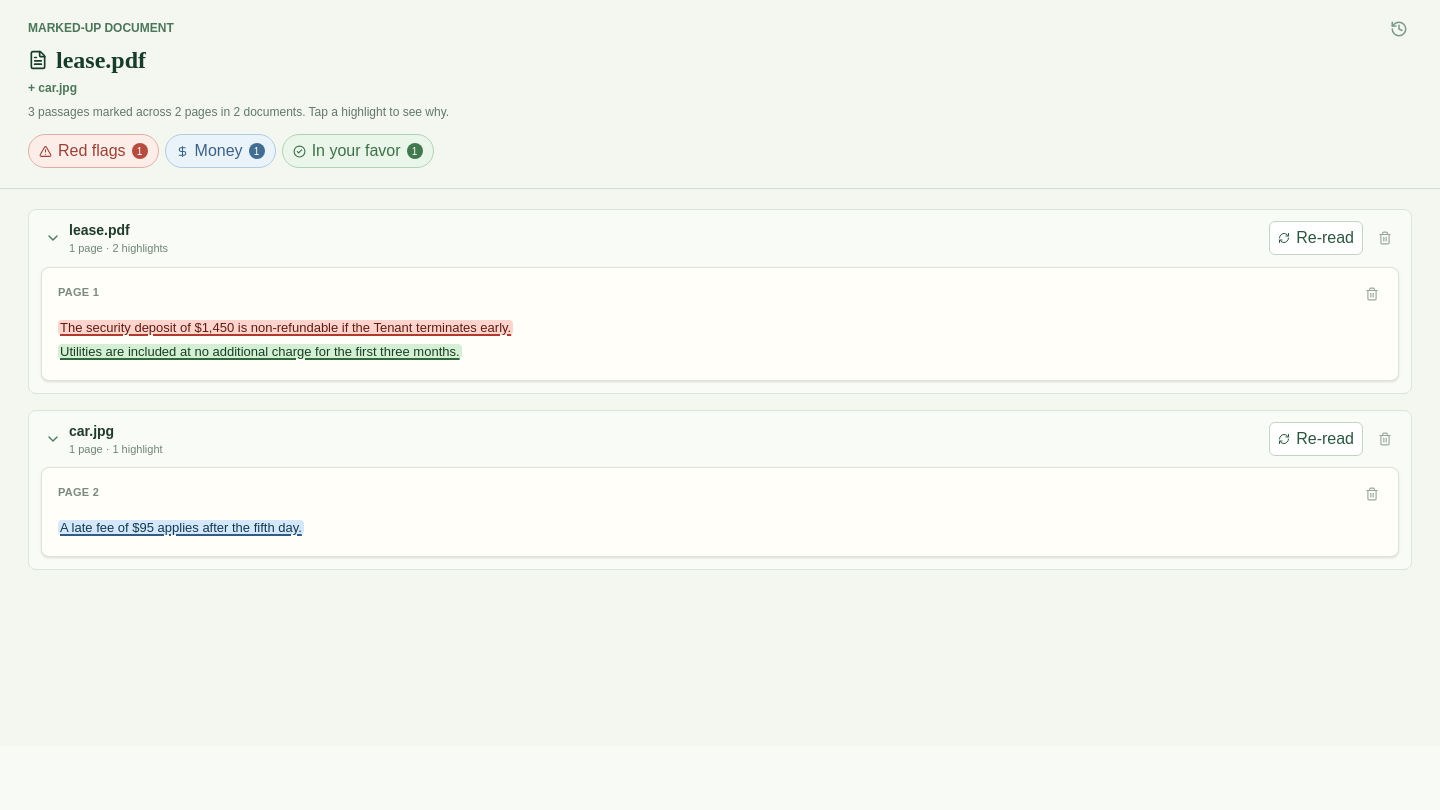
Test: documents in the panel › says so when the re-read could not run
This screenshot has width=1440, height=810.
Click the button with aria-label "Read lease.pdf again": (1316, 238) 1269,221 -> 1363,255
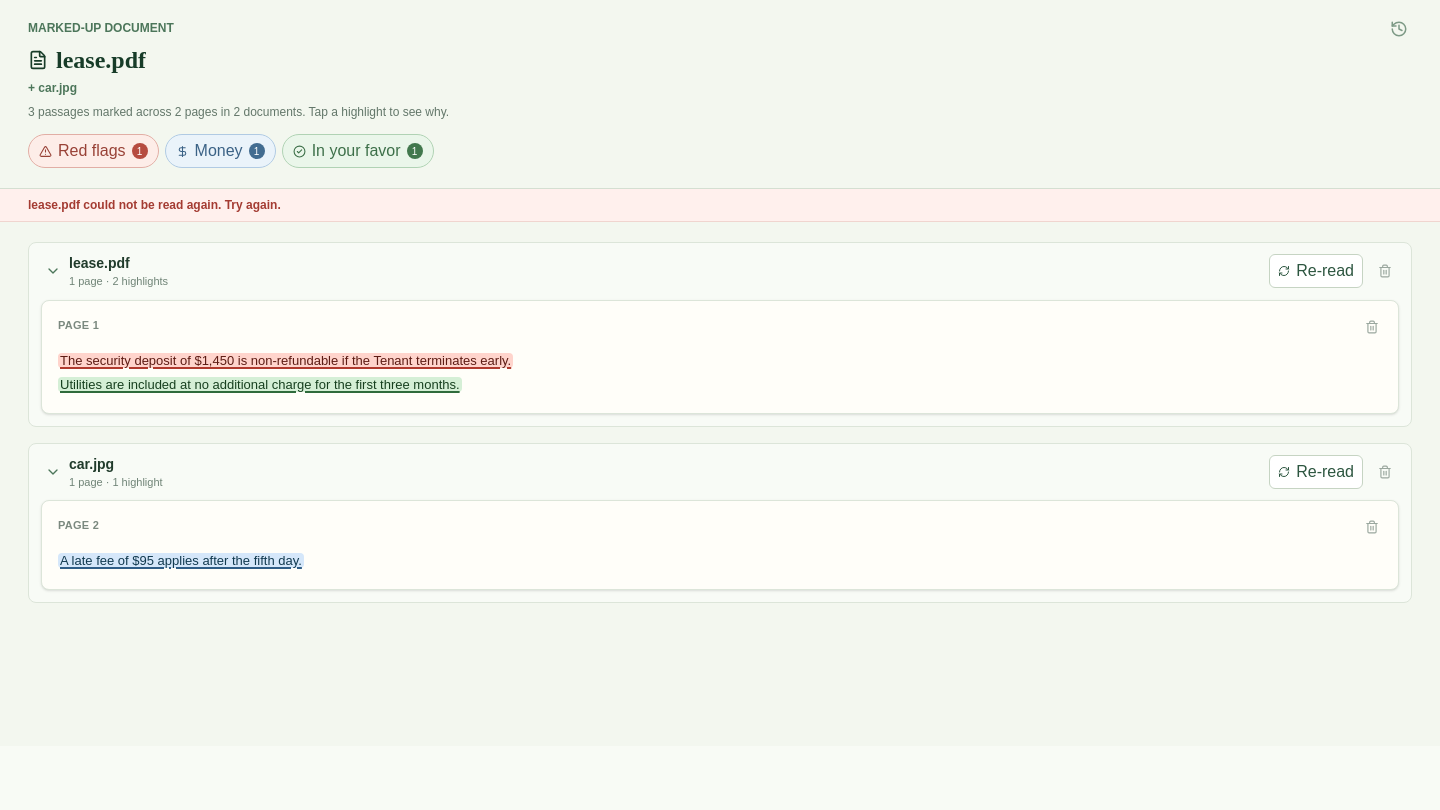
Result: the message shows "could not be read again" at 28,198 -> 281,212
